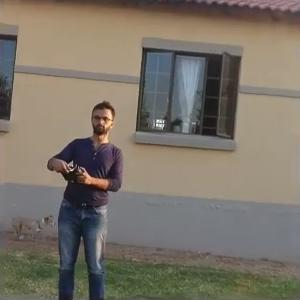follow: (40, 93, 126, 298)
null: (0, 204, 57, 244)
